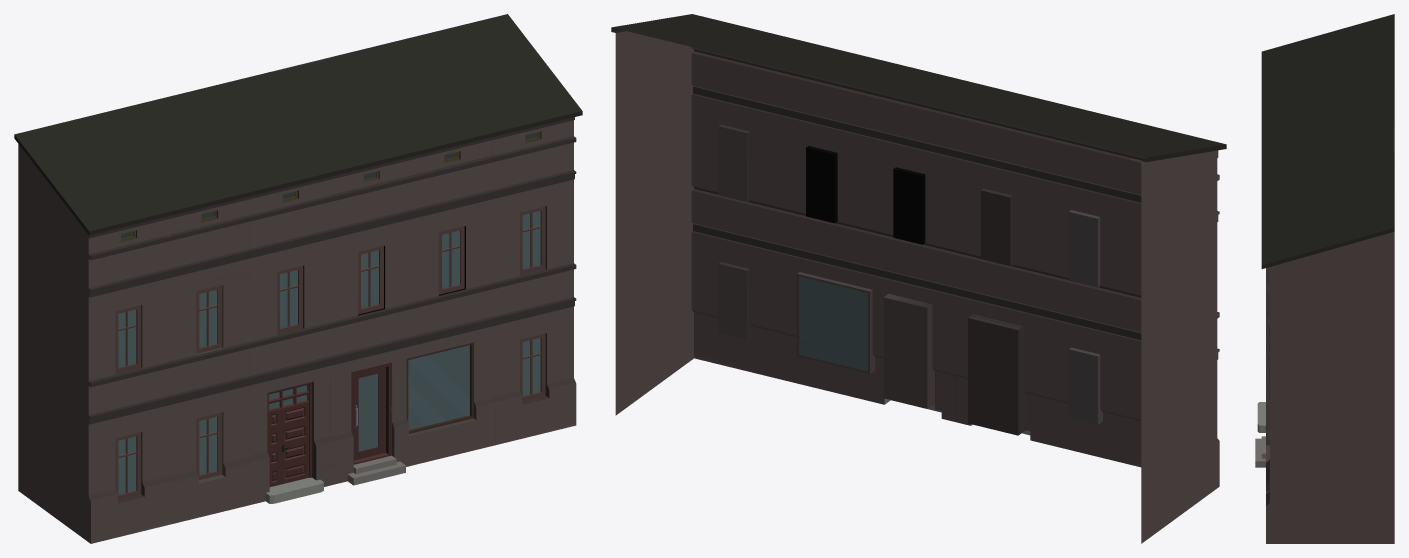
File: kamienica3-final.fbx
The picture shows the model from 3 angles, left to right: view 1: azimuth 30°, elevation 25°; view 2: azimuth 150°, elevation 25°; view 3: azimuth 270°, elevation 25°; orthographic projection. The views are drawn at different scales.
Parts seen in each view (by area): view 1: kamienica3-abandoned-shop, kamienica3-abandoned-side-l, kamienica3-abandoned-side-r, kamienica3-abandoned-mid, kamienica3-abandoned-entry, k3-shop-decor1, k3-entry-decor1, k3-mid-decor1, k3-mid-decor2, k3-mid-decor3; view 2: kamienica3-abandoned-shop, kamienica3-abandoned-side-r, kamienica3-abandoned-side-l, kamienica3-abandoned-mid, kamienica3-abandoned-entry; view 3: kamienica3-abandoned-side-r, kamienica3-abandoned-shop, kamienica3-abandoned-entry, kamienica3-abandoned-side-l, kamienica3-abandoned-mid.
Part boxes in pixels (<box>): kamienica3-abandoned-shop: <box>261,34,497,485</box>; kamienica3-abandoned-side-l: <box>14,113,173,543</box>; kamienica3-abandoned-side-r: <box>423,14,582,445</box>; kamienica3-abandoned-mid: <box>100,94,254,523</box>; kamienica3-abandoned-entry: <box>180,74,335,504</box>; k3-shop-decor1: <box>351,151,473,464</box>; k3-entry-decor1: <box>267,191,312,486</box>; k3-mid-decor1: <box>196,210,222,480</box>; k3-mid-decor2: <box>115,230,141,499</box>; k3-mid-decor3: <box>520,131,545,401</box>; kamienica3-abandoned-shop: <box>703,36,958,422</box>; kamienica3-abandoned-side-r: <box>611,14,783,415</box>; kamienica3-abandoned-side-l: <box>1054,122,1226,543</box>; kamienica3-abandoned-mid: <box>967,100,1133,464</box>; kamienica3-abandoned-entry: <box>879,79,1046,443</box>; kamienica3-abandoned-side-r: <box>1261,191,1394,543</box>; kamienica3-abandoned-shop: <box>1255,121,1394,470</box>; kamienica3-abandoned-entry: <box>1257,86,1394,432</box>; kamienica3-abandoned-side-l: <box>1261,14,1394,88</box>; kamienica3-abandoned-mid: <box>1261,51,1394,123</box>.
Size of the model in its own units: 1220 by 845 by 335.
